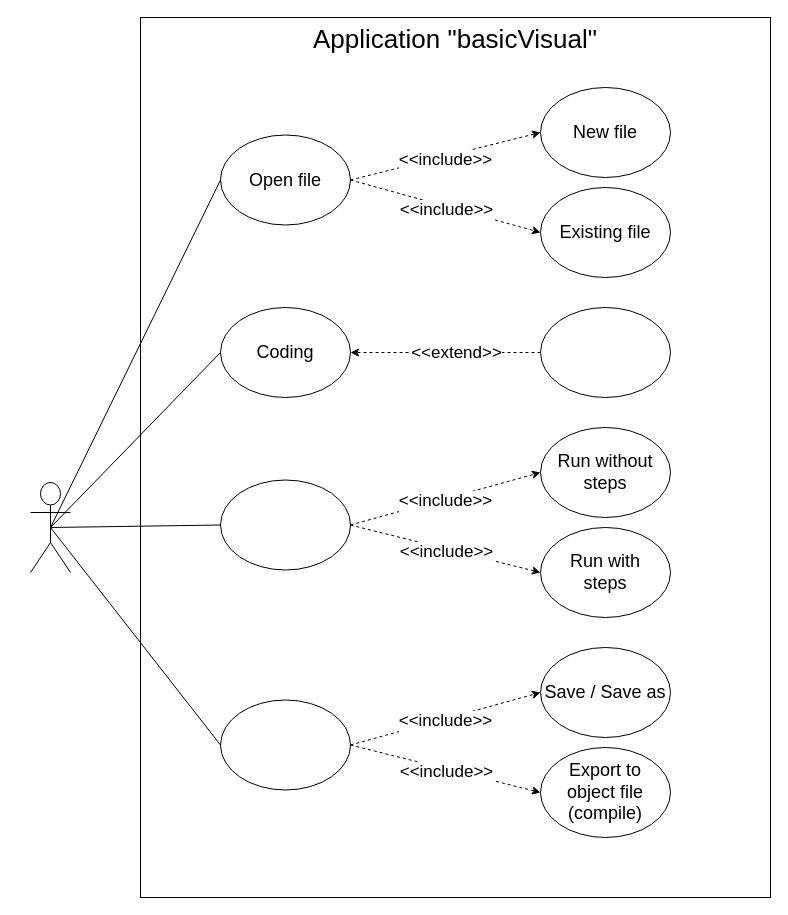
Image size: 788x915. Some labels were removed from this diagram. Here are the shapes that lost their labels. From the top down, the centre of each, then its label:
At pixel 605 352: "Import file as function".
At pixel 50 527: "The User".
At pixel 285 524: "Running the code".
At pixel 285 744: "Saving the code".
